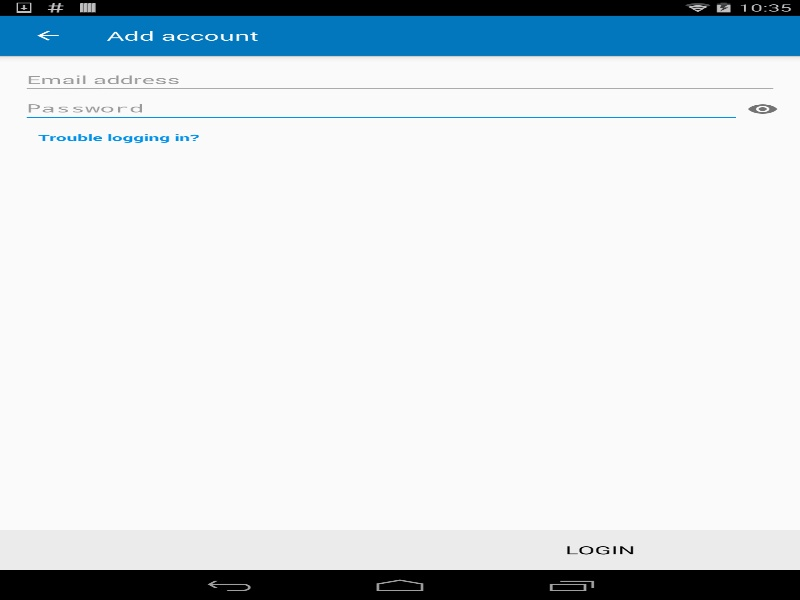Button: (410, 535, 789, 565), (21, 122, 214, 152), (10, 15, 85, 55)
Input: (21, 65, 778, 94), (21, 94, 741, 122)
